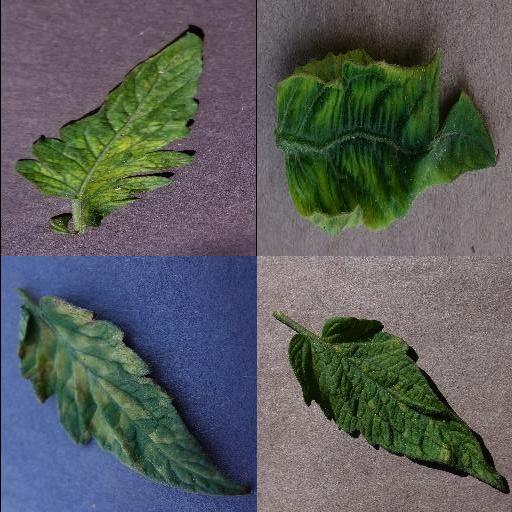Leaf Mold: (19, 297, 253, 496), (288, 315, 506, 495)
Mosaic Virus: (12, 30, 204, 206)
Yellow Leaf Curl Virus: (275, 50, 499, 234)
